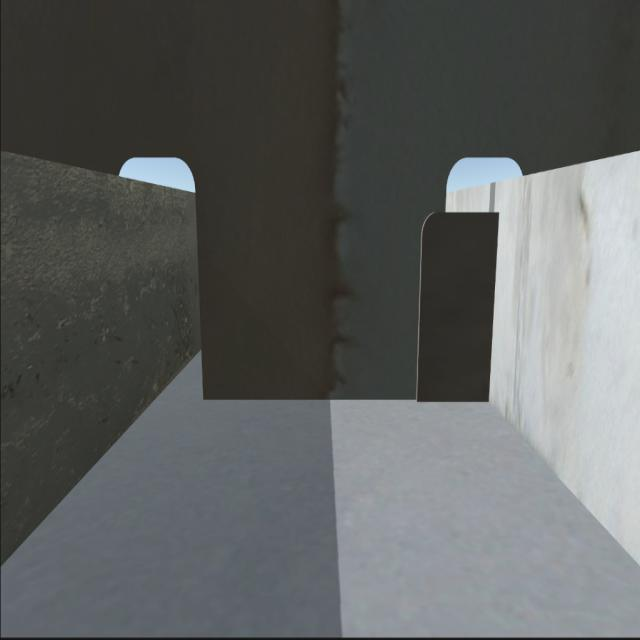fillet_yong_jeop_jang: (208, 393, 493, 405)
longi_yong_jeop_jang: (488, 212, 502, 406)
plate_CP05: (416, 207, 494, 395)
